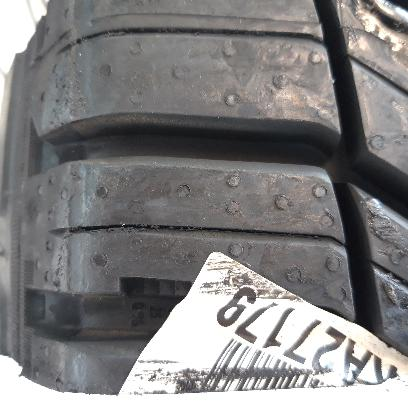temoin:100: (118, 276, 196, 301)
